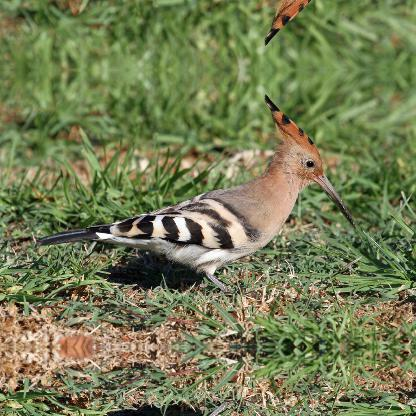Bird: (34, 101, 358, 289), (34, 0, 358, 38)
